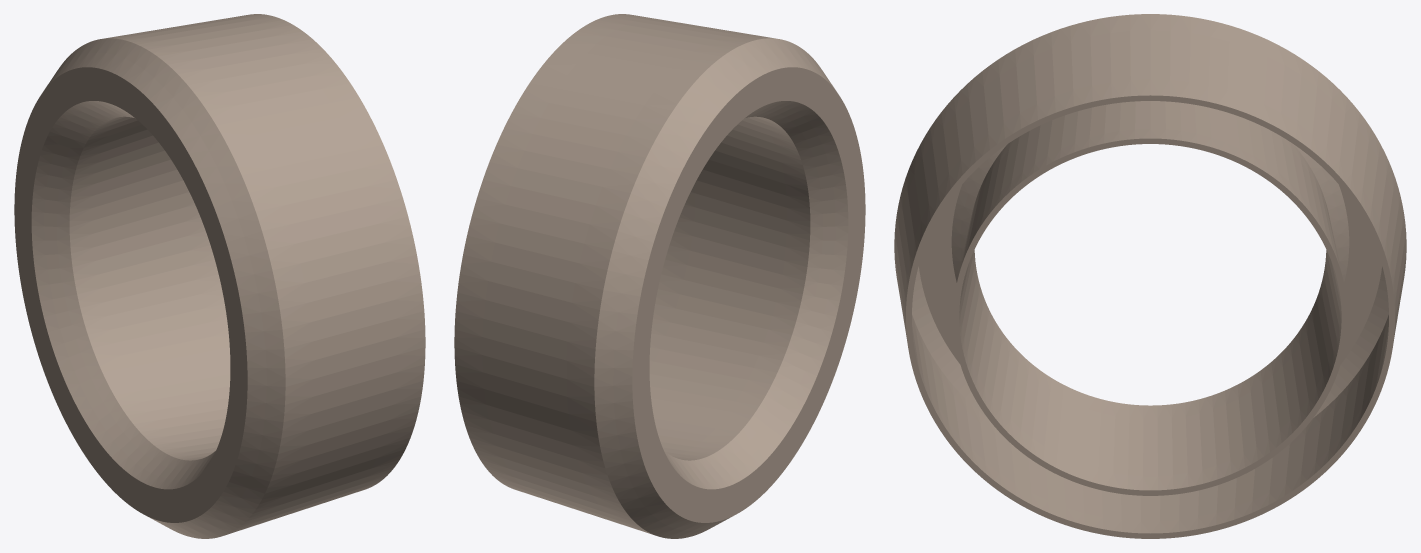
The model's file is p-combustor.glb.
The picture shows the model from 3 angles, left to right: view 1: azimuth 30°, elevation 25°; view 2: azimuth 150°, elevation 25°; view 3: azimuth 270°, elevation 25°; orthographic projection.
Visible parts, largest first — view 1: combustor; view 2: combustor; view 3: combustor.
Boxes of the visible parts, bbox=[...] form: combustor: bbox=[14, 14, 425, 538]; combustor: bbox=[454, 14, 865, 538]; combustor: bbox=[894, 14, 1406, 538].
Bounding box in the file's own units: 0.26 × 0.67 × 0.6699.
